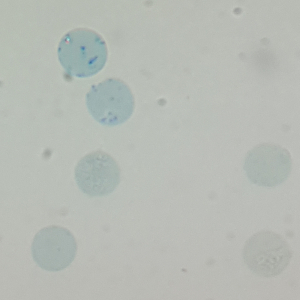aggregate reticulocyte: (55, 26, 109, 79)
erythrocyte: (241, 230, 294, 277), (73, 149, 123, 198), (243, 141, 293, 188)
punctate reticulocyte: (84, 76, 136, 127), (30, 225, 79, 274)
